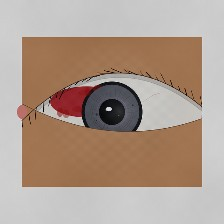hemorrhage_spot: (37, 62, 136, 142)
